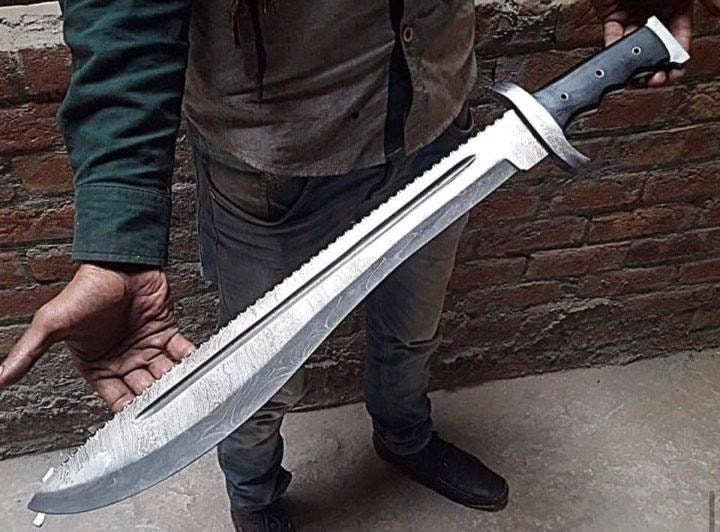knife: (20, 12, 699, 519)
